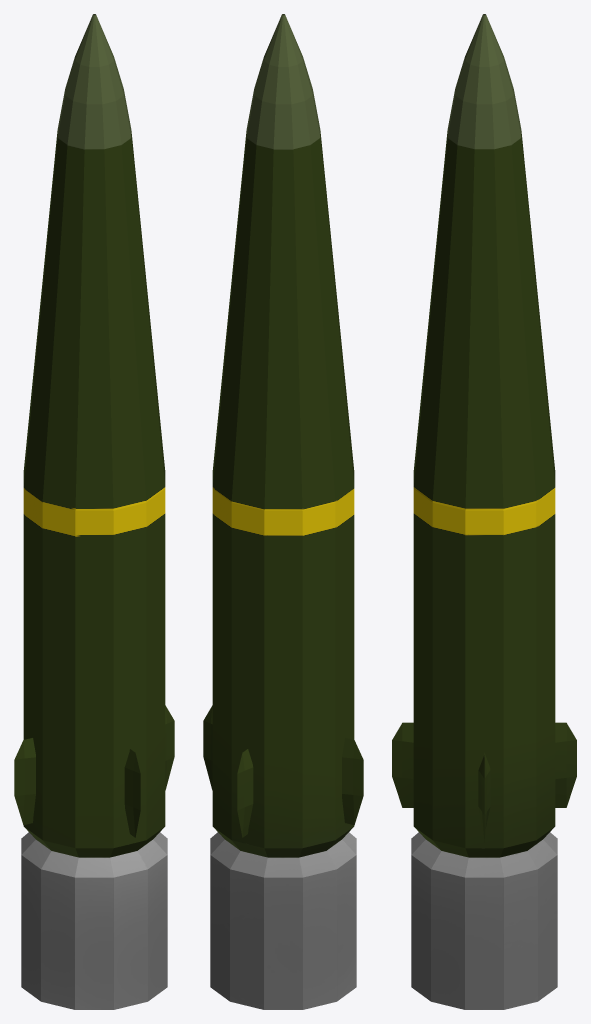
File: ballistic_missile.fbx
3 views of the same model, side by side, from view 1: azimuth 30°, elevation 25°; view 2: azimuth 150°, elevation 25°; view 3: azimuth 270°, elevation 25° (orthographic).
Parts seen in each view (by area): view 1: ballistic_missile, ballistic_missile_booster; view 2: ballistic_missile, ballistic_missile_booster; view 3: ballistic_missile, ballistic_missile_booster.
Boxes of the visible parts, <box> form: ballistic_missile: <box>14,14,174,857</box>; ballistic_missile_booster: <box>21,832,167,1009</box>; ballistic_missile: <box>203,14,363,857</box>; ballistic_missile_booster: <box>210,832,356,1009</box>; ballistic_missile: <box>392,14,576,857</box>; ballistic_missile_booster: <box>411,832,557,1009</box>.
Bounding box in the file's own units: 48.08 × 277 × 48.08.
Materials: 1 (1 with a texture image).
